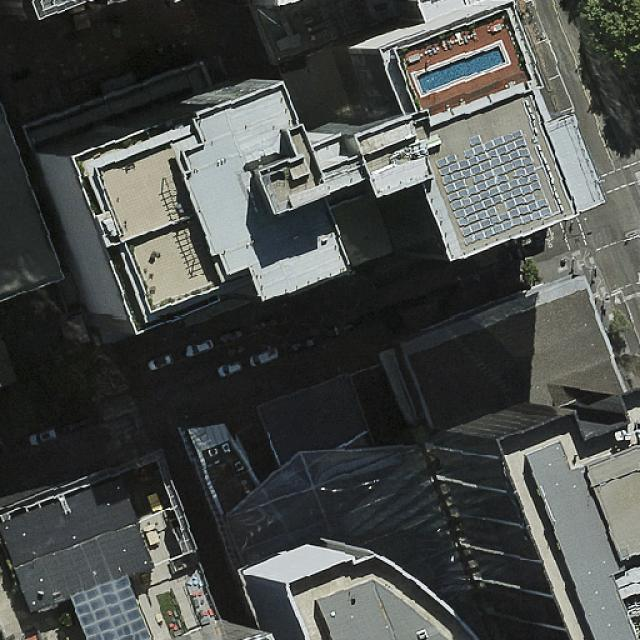Bike-Symbols: (612, 293, 623, 306)
